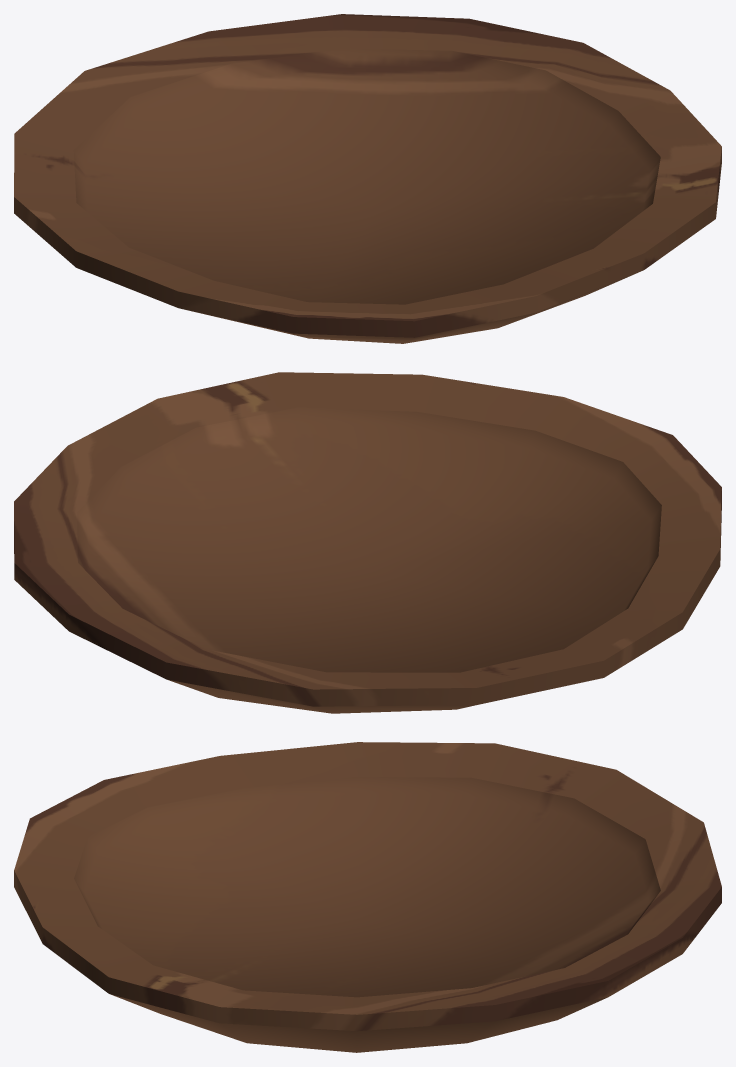
File: SM_PROP_plate_interior_01.fbx
The picture shows the model from 3 angles, top to bottom: view 1: azimuth 30°, elevation 25°; view 2: azimuth 150°, elevation 25°; view 3: azimuth 270°, elevation 25°; orthographic projection. The views are drawn at different scales.
Parts seen in each view (by area): view 1: SM_PROP_plate_interior_01; view 2: SM_PROP_plate_interior_01; view 3: SM_PROP_plate_interior_01.
Boxes of the visible parts, x1=… form: SM_PROP_plate_interior_01: x1=14, y1=14, x2=721, y2=343; SM_PROP_plate_interior_01: x1=14, y1=372, x2=721, y2=713; SM_PROP_plate_interior_01: x1=14, y1=742, x2=721, y2=1052.
Bounding box in the file's own units: 36.29 × 3.98 × 37.63.
